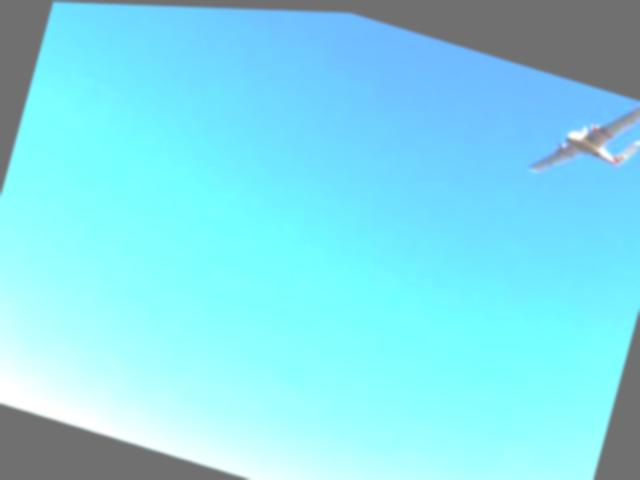uav: (526, 68, 640, 197)
